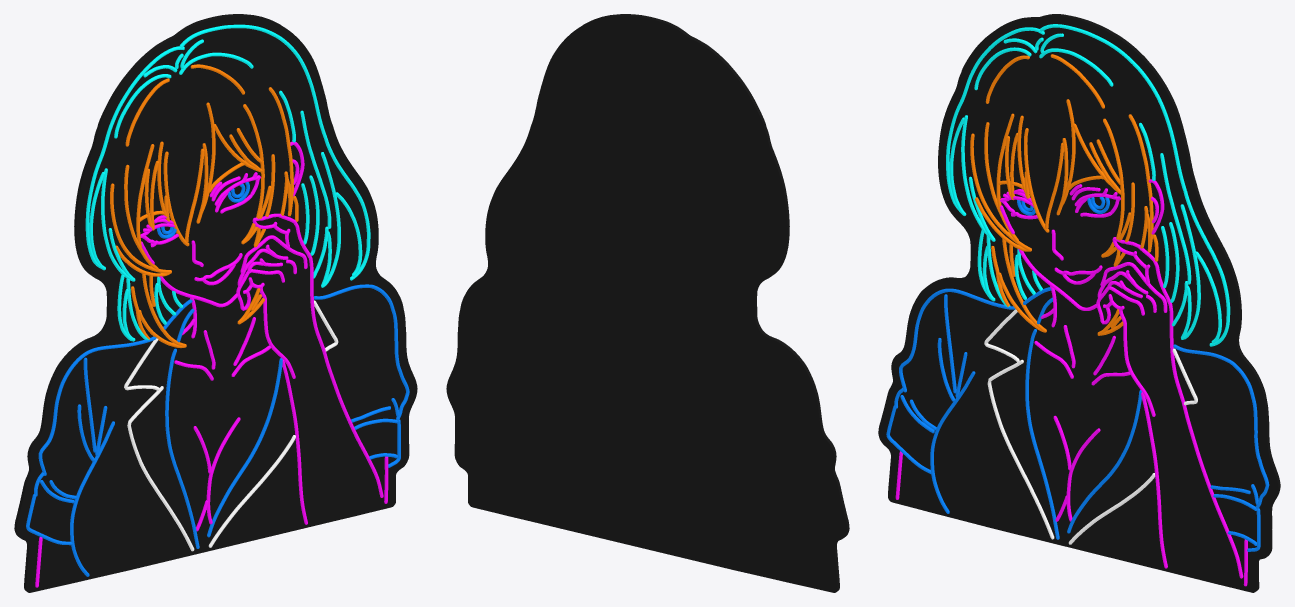
The model's file is ライトブルーヘアー.glb.
3 views of the same model, side by side, from view 1: azimuth 30°, elevation 25°; view 2: azimuth 150°, elevation 25°; view 3: azimuth 330°, elevation 25° (orthographic).
Bounding box in the file's own units: 730 × 926 × 12.
